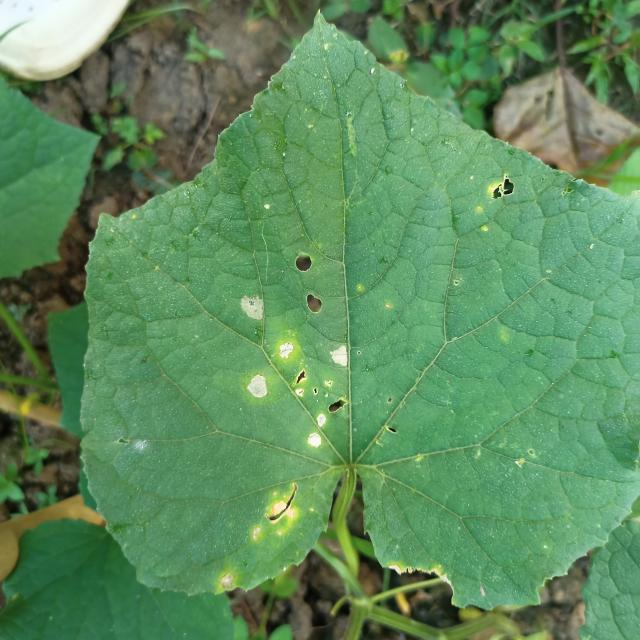disease_cucumber: (226, 289, 357, 455)
